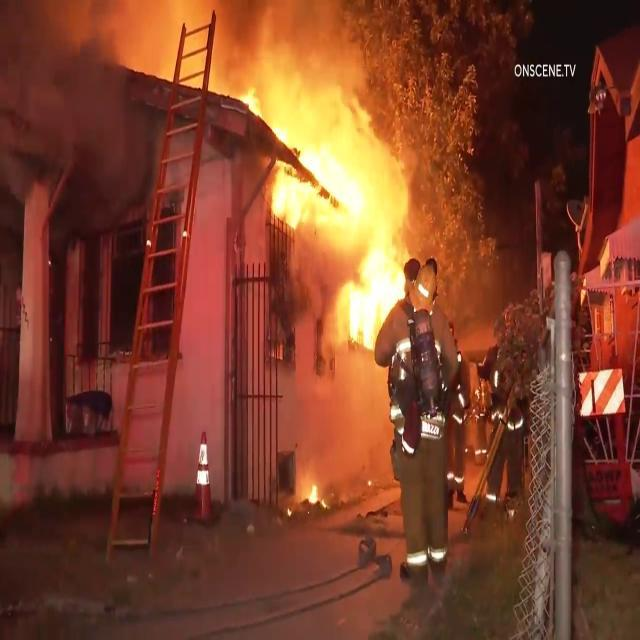Fire: (342, 215, 382, 353), (250, 130, 297, 236), (314, 111, 364, 195)
Smoke: (4, 7, 132, 216)
